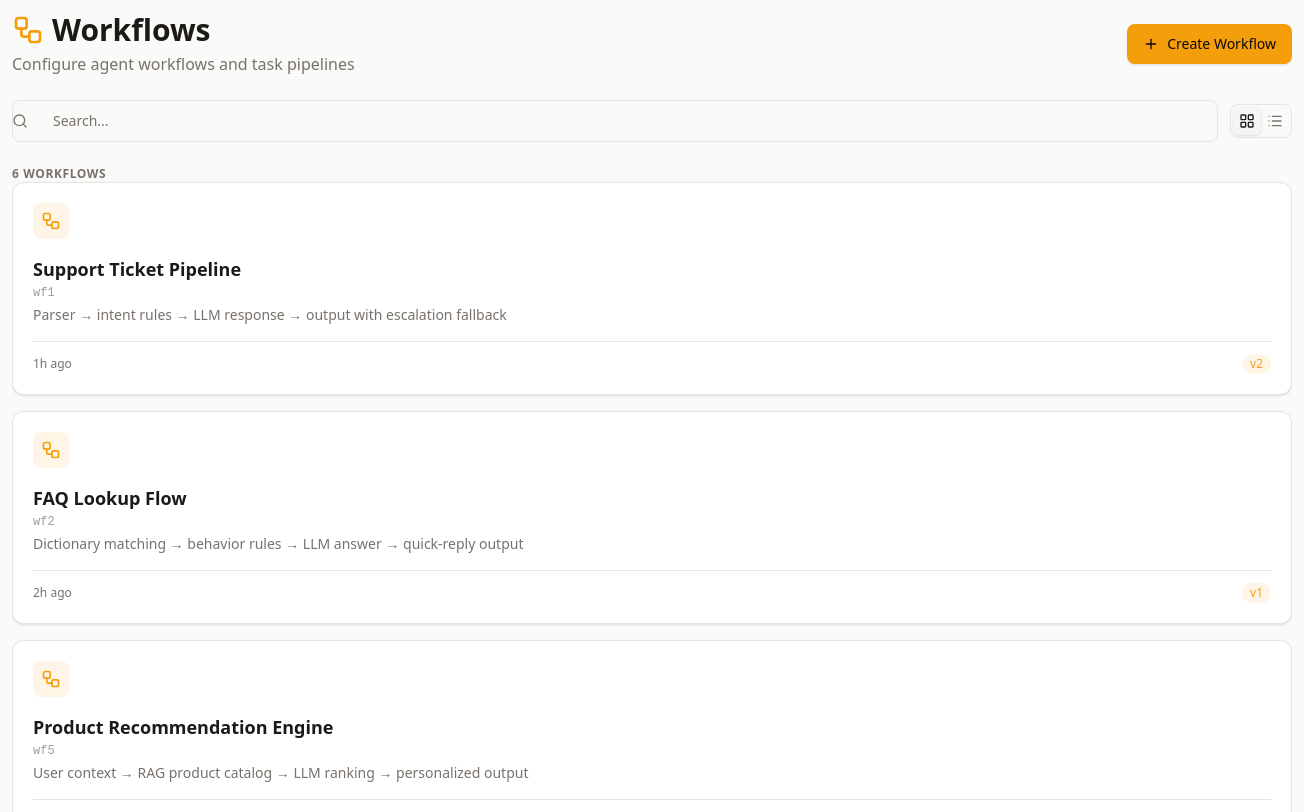
Test case: WorkflowsPage › can switch to list view
Click the radio button with test id "view-toggle-list" at (1275, 121), box [1261,107,1289,135]
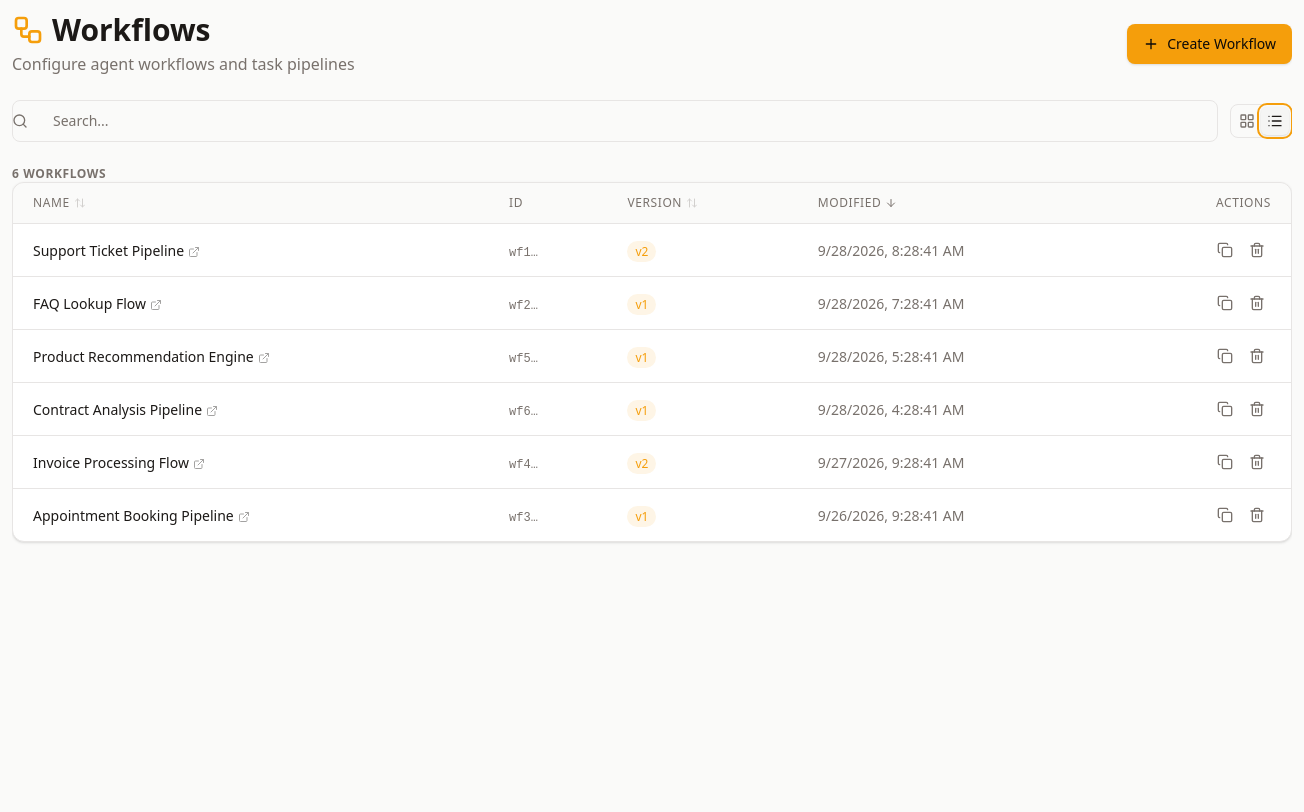
Expected: the element with test id "workflow-list" is shown, [12,182,1292,542]
